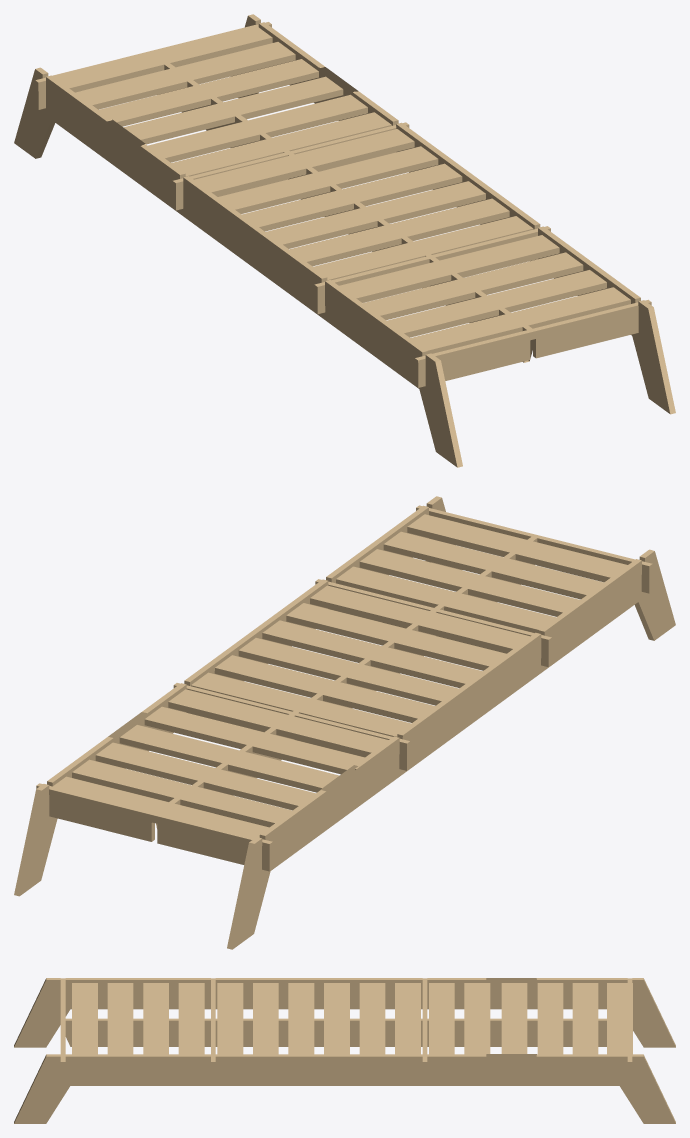
The model's file is şezlong.fbx.
3 renders of one model, top to bottom at view 1: azimuth 30°, elevation 25°; view 2: azimuth 150°, elevation 25°; view 3: azimuth 270°, elevation 25°, orthographic. The views are drawn at different scales.
Parts seen in each view (by area): view 1: Assembly Sunbed; view 2: Assembly Sunbed; view 3: Assembly Sunbed.
Boxes of the visible parts, bbox=[...] form: Assembly Sunbed: bbox=[14, 14, 675, 467]; Assembly Sunbed: bbox=[14, 496, 675, 949]; Assembly Sunbed: bbox=[14, 978, 675, 1123].
Size of the model in its own units: 1011 by 381 by 3325.
